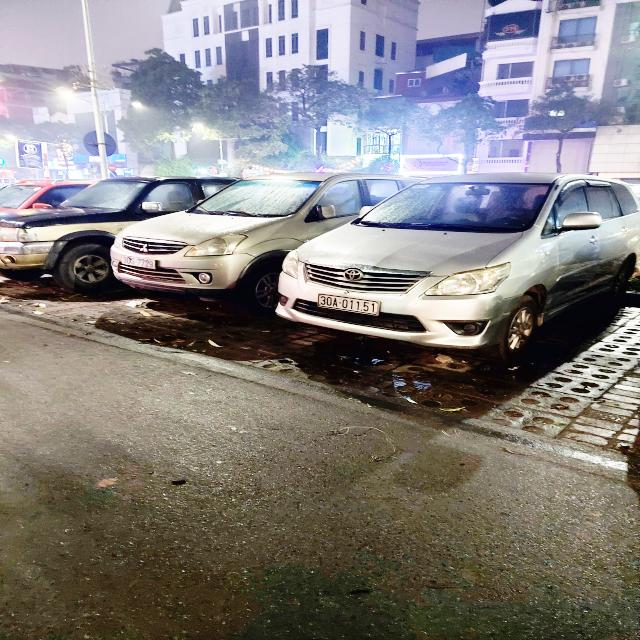license_plate: (317, 294, 382, 318)
